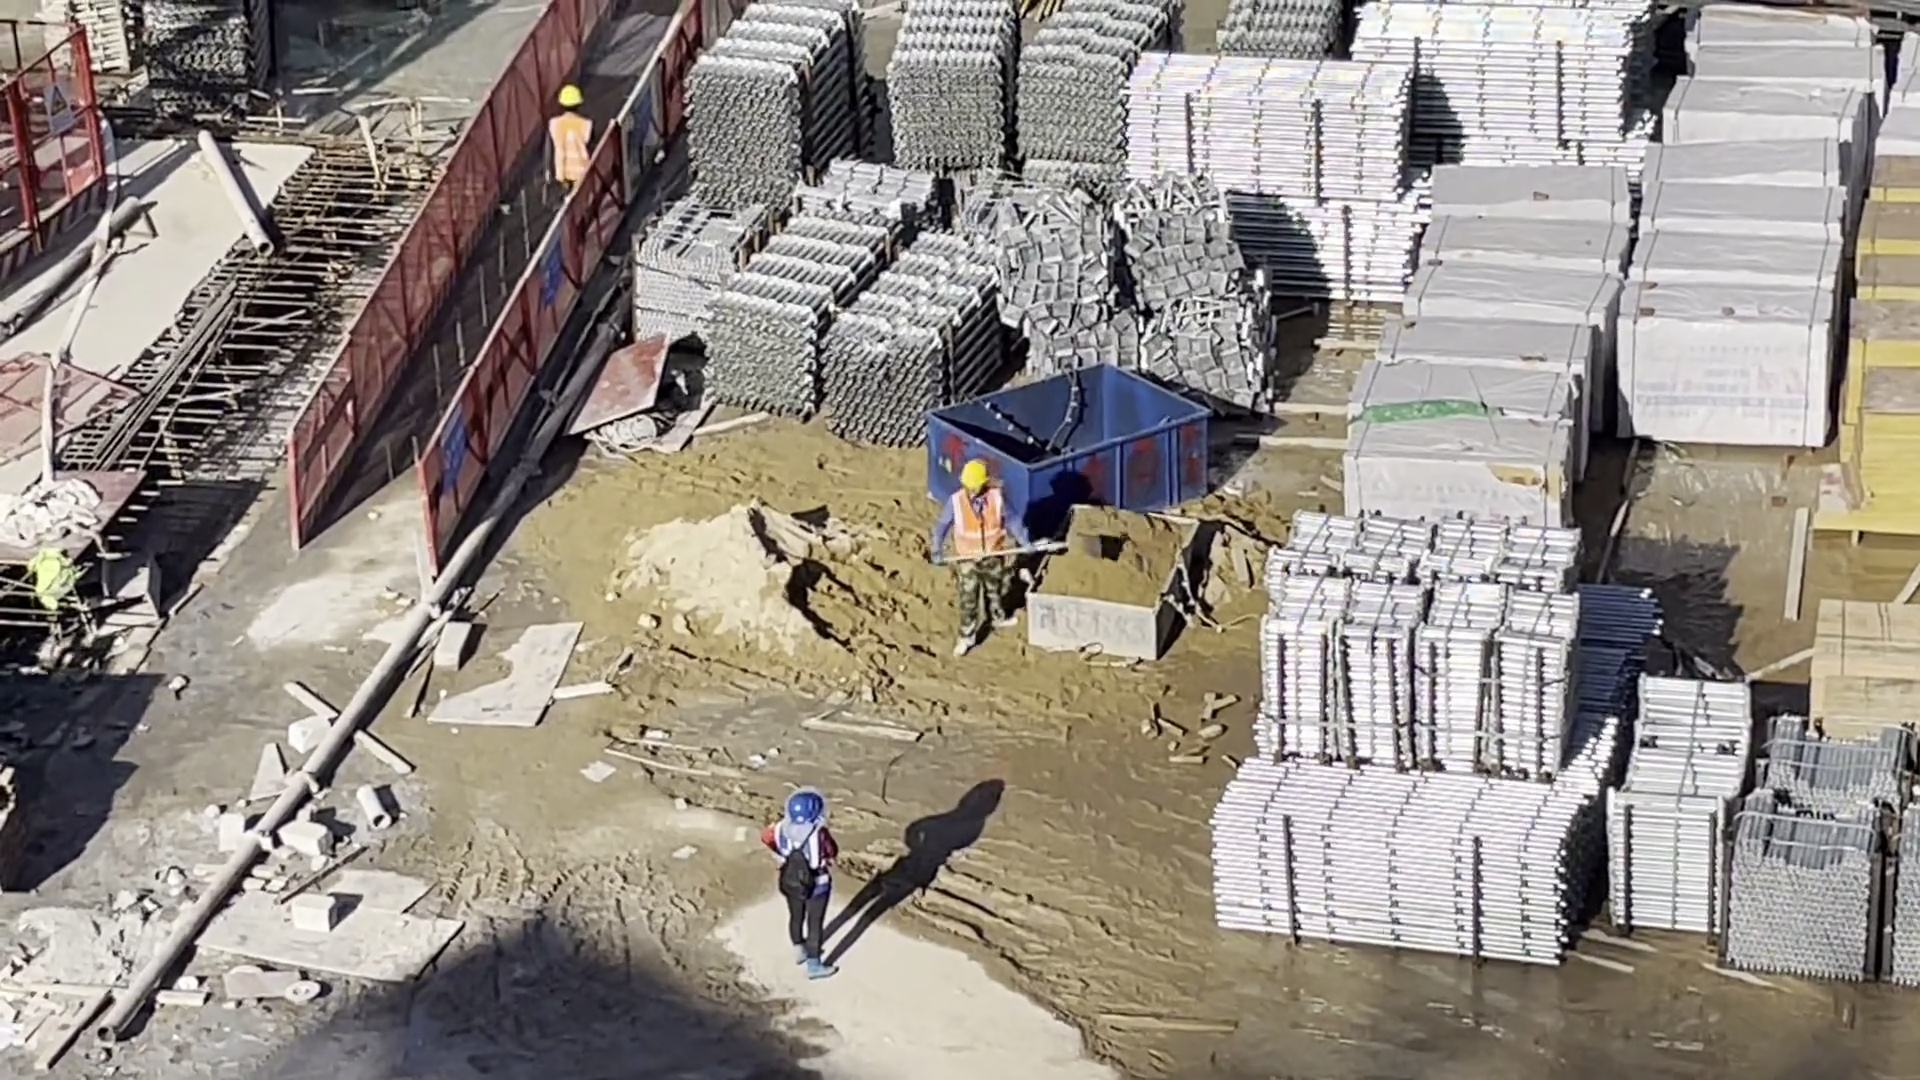board: (1840, 156, 1920, 530), (1813, 596, 1920, 722)
fence: (297, 4, 690, 547)
helmet: (788, 793, 824, 825), (958, 460, 992, 487), (559, 87, 581, 106)
hopper: (927, 361, 1209, 524), (1025, 504, 1202, 658)
person: (940, 458, 1008, 649), (773, 789, 839, 981), (544, 89, 596, 193)
scaffold: (1211, 756, 1596, 964), (1259, 519, 1573, 773), (1121, 46, 1415, 295), (717, 216, 1001, 431), (1732, 730, 1920, 982), (896, 3, 1167, 176), (1355, 1, 1635, 135), (683, 4, 869, 196), (1619, 672, 1746, 929), (150, 1, 270, 96), (1217, 1, 1347, 69), (50, 1, 136, 74)
slogan: (439, 412, 461, 481), (538, 245, 561, 306)
vest: (547, 112, 593, 185), (956, 488, 1001, 558)
